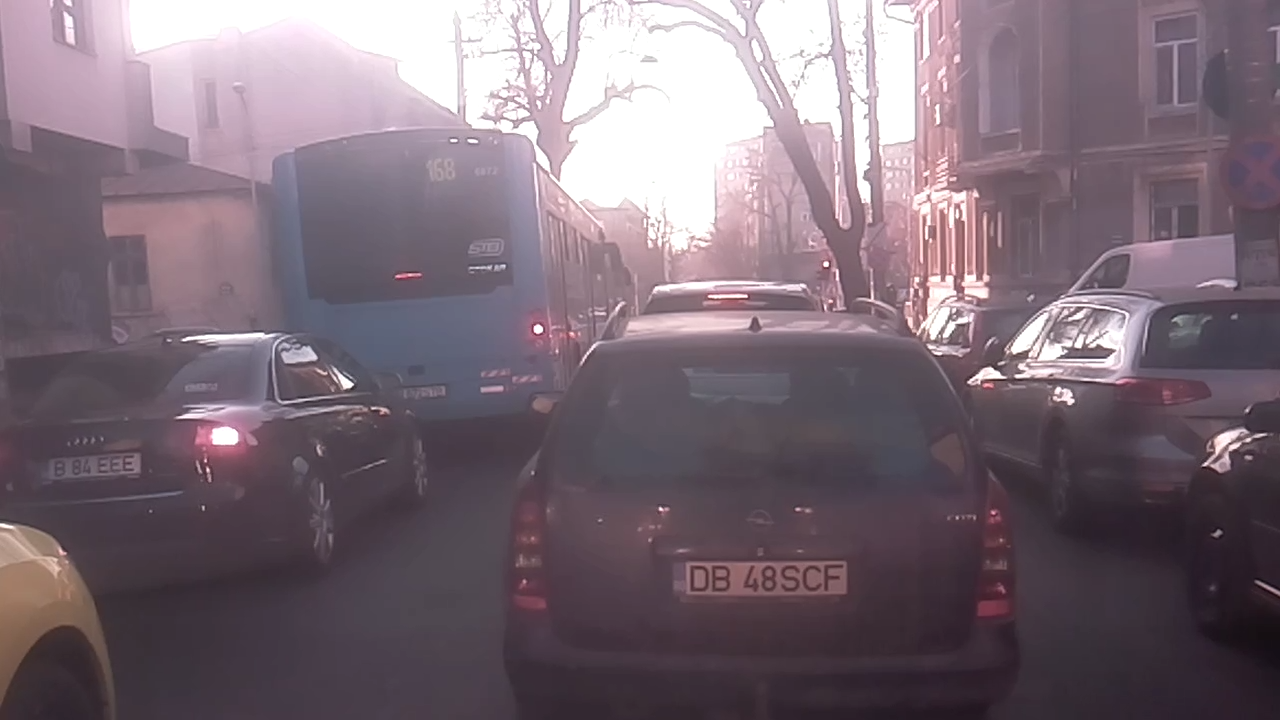license-plate: (667, 553, 852, 602), (38, 447, 145, 486)
